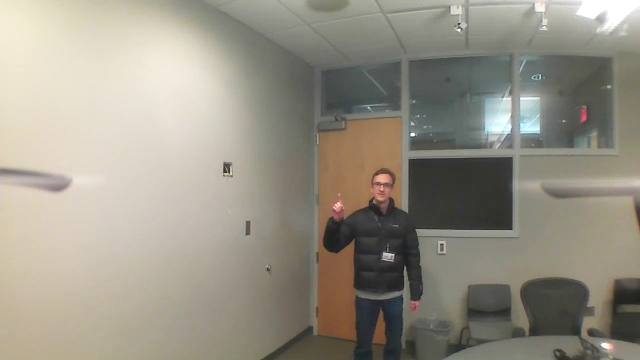up: (329, 191, 348, 221)
